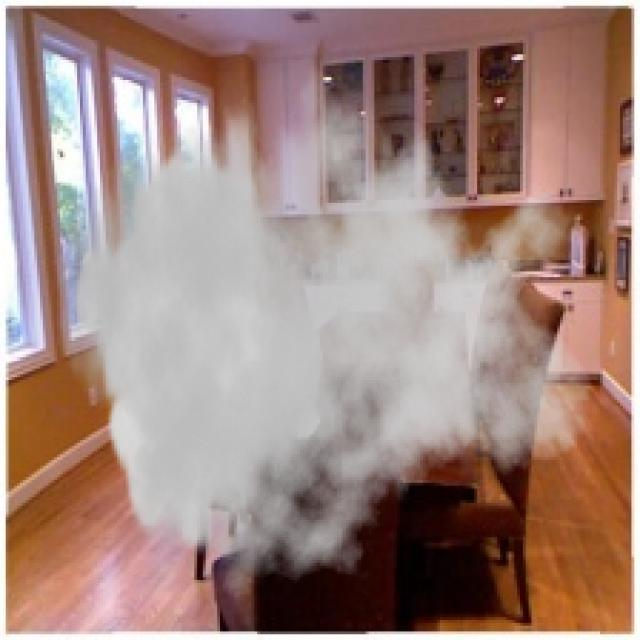Smoke: (55, 40, 594, 606)
